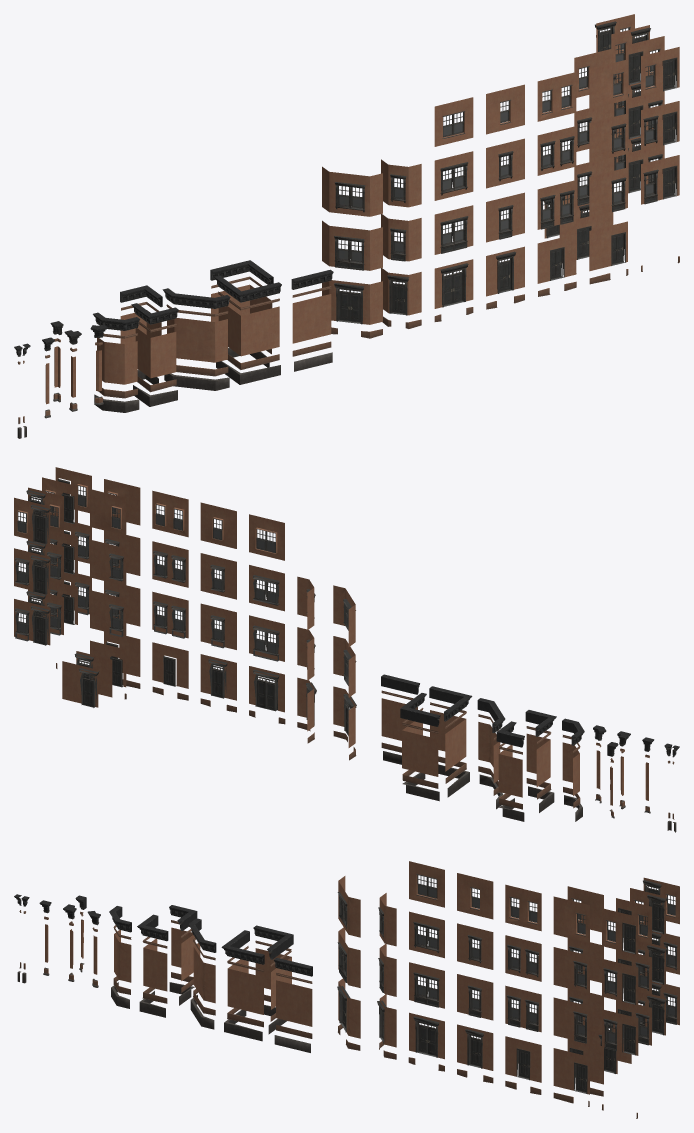
File: facade.glb
3 views of the same model, one above another, from view 1: azimuth 30°, elevation 25°; view 2: azimuth 150°, elevation 25°; view 3: azimuth 330°, elevation 25° (orthographic). The views are drawn at different scales.
Visible parts, largest first — view 1: wall_standard_corner_large_01, wall_standard_angled_large_01, wall_window_angled_large_02, wall_standard_corner_small_01, wall_standard_standard_01, wall_window_angled_large_01, wall_standard_angled_small_01, wall_window_offset_small_05, wall_window_centered_small_03, wall_window_centered_double_03, wall_window_angled_small_02, wall_window_centered_small_02 (+39 smaller); view 2: wall_standard_corner_large_02, wall_standard_corner_large_01, wall_window_offset_small_06, wall_window_centered_small_03, wall_window_centered_small_02, wall_window_centered_small_01, wall_window_offset_small_04, wall_window_offset_small_02, wall_door_centered_small_02, wall_window_centered_double_03, wall_standard_corner_small_01, wall_standard_corner_small_02 (+41 smaller); view 3: wall_standard_corner_large_01, wall_standard_standard_01, wall_window_offset_small_05, wall_window_centered_small_03, wall_window_centered_small_02, wall_window_offset_small_03, wall_window_centered_double_03, wall_window_centered_small_01, wall_window_offset_small_01, wall_door_centered_small_02, wall_door_offset_small_01, wall_standard_corner_small_01 (+53 smaller).
Part boxes in pixels (bbox=[...]): wall_standard_corner_large_01: bbox=[218, 306, 279, 356]; wall_standard_angled_large_01: bbox=[167, 318, 227, 362]; wall_window_angled_large_02: bbox=[322, 166, 382, 216]; wall_standard_corner_small_01: bbox=[135, 328, 176, 378]; wall_standard_standard_01: bbox=[292, 294, 331, 343]; wall_window_angled_large_01: bbox=[322, 220, 382, 270]; wall_standard_angled_small_01: bbox=[97, 338, 137, 384]; wall_window_offset_small_05: bbox=[589, 59, 627, 109]; wall_window_centered_small_03: bbox=[486, 84, 524, 134]; wall_window_centered_double_03: bbox=[537, 72, 576, 121]; wall_window_angled_small_02: bbox=[381, 159, 421, 207]; wall_window_centered_small_02: bbox=[486, 138, 524, 188]; wall_standard_corner_large_02: bbox=[402, 721, 438, 776]; wall_standard_corner_large_01: bbox=[430, 710, 466, 771]; wall_window_offset_small_06: bbox=[90, 489, 126, 535]; wall_window_centered_small_03: bbox=[200, 502, 236, 548]; wall_window_centered_small_02: bbox=[200, 553, 236, 599]; wall_window_centered_small_01: bbox=[200, 603, 236, 649]; wall_window_offset_small_04: bbox=[90, 539, 126, 585]; wall_window_offset_small_02: bbox=[90, 590, 126, 636]; wall_door_centered_small_02: bbox=[152, 642, 188, 688]; wall_window_centered_double_03: bbox=[152, 490, 188, 537]; wall_standard_corner_small_01: bbox=[526, 733, 550, 786]; wall_standard_corner_small_02: bbox=[498, 745, 522, 797]; wall_standard_corner_large_01: bbox=[227, 959, 263, 1014]; wall_standard_standard_01: bbox=[276, 980, 312, 1026]; wall_window_offset_small_05: bbox=[553, 896, 589, 942]; wall_window_centered_small_03: bbox=[457, 873, 493, 919]; wall_window_centered_small_02: bbox=[457, 923, 493, 969]; wall_window_offset_small_03: bbox=[553, 947, 589, 993]; wall_window_centered_double_03: bbox=[505, 884, 541, 931]; wall_window_centered_small_01: bbox=[457, 974, 493, 1020]; wall_window_offset_small_01: bbox=[553, 997, 589, 1043]; wall_door_centered_small_02: bbox=[505, 1036, 541, 1082]; wall_door_offset_small_01: bbox=[553, 1048, 589, 1094]; wall_standard_corner_small_01: bbox=[143, 938, 167, 991].
Size of the model in its own units: 51.53 by 17 by 6.67.
5 materials, 5 textured.
